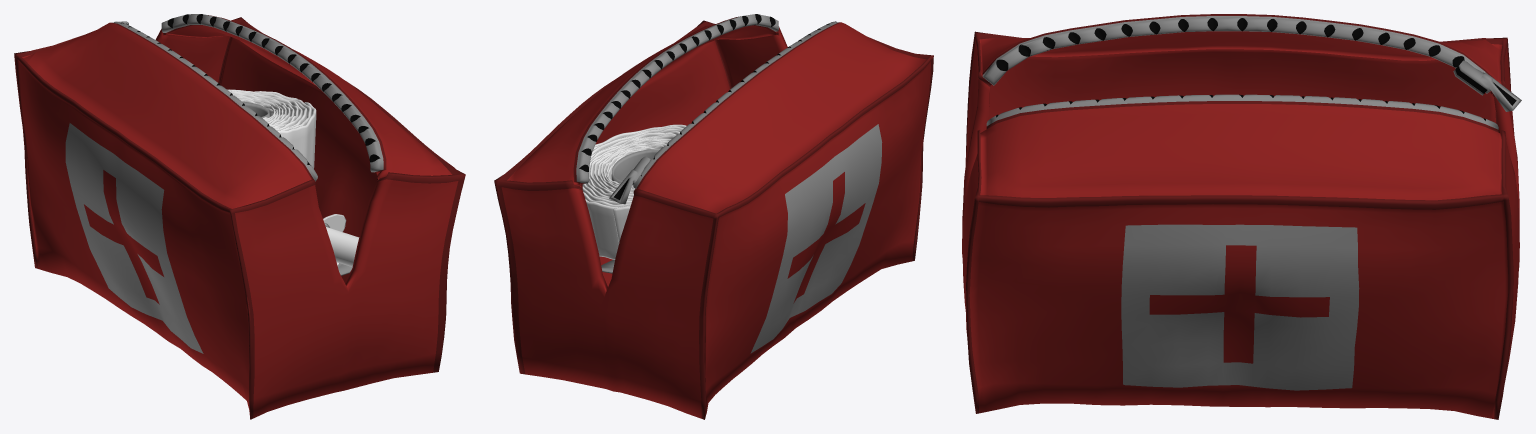
File: medkit.fbx
3 views of the same model, side by side, from view 1: azimuth 30°, elevation 25°; view 2: azimuth 150°, elevation 25°; view 3: azimuth 270°, elevation 25° (orthographic). The views are drawn at different scales.
Parts seen in each view (by area): view 1: Plane, Plane.001, Cylinder; view 2: Plane, Plane.001; view 3: Plane.
Boxes of the visible parts, x1,y1,x2,y2 form: Plane: [14, 14, 465, 419]; Plane.001: [227, 89, 316, 168]; Cylinder: [323, 214, 359, 267]; Plane: [494, 14, 933, 419]; Plane.001: [582, 124, 686, 259]; Plane: [962, 14, 1521, 419].
Size of the model in its own units: 125 by 127 by 198.
